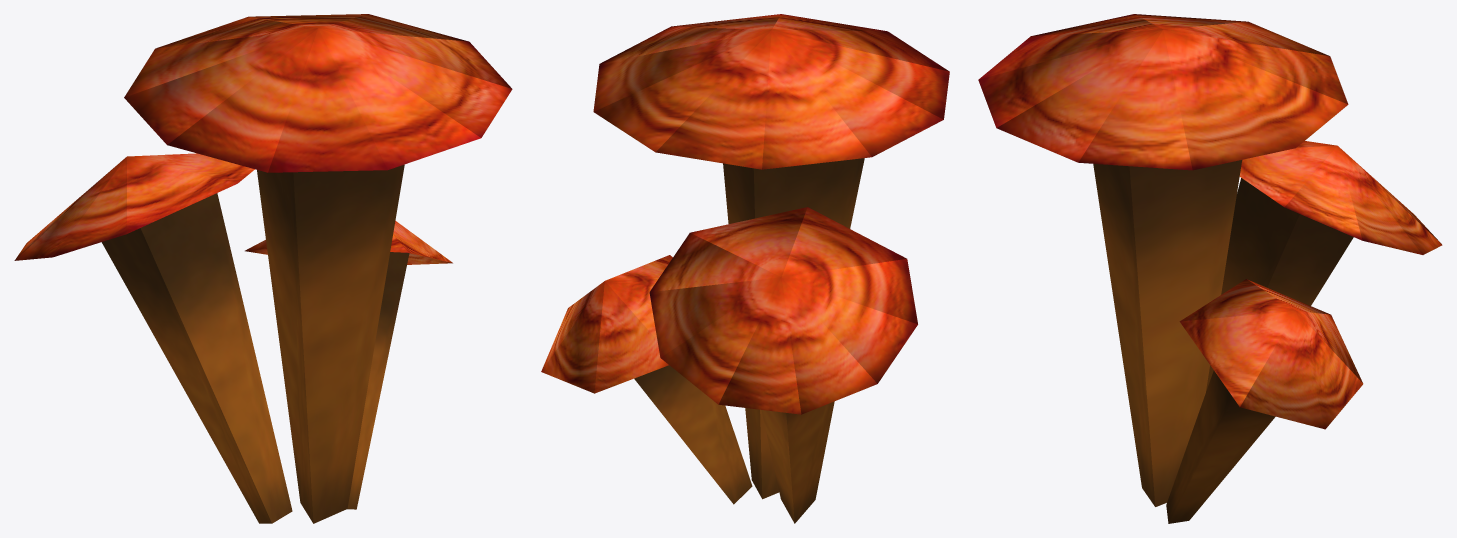
File: mush20.fbx
The picture shows the model from 3 angles, left to right: view 1: azimuth 30°, elevation 25°; view 2: azimuth 150°, elevation 25°; view 3: azimuth 270°, elevation 25°; orthographic projection. The views are drawn at different scales.
Parts seen in each view (by area): view 1: shrooms20; view 2: shrooms20; view 3: shrooms20.
Part boxes in pixels (bbox=[...]): shrooms20: bbox=[14, 14, 512, 523]; shrooms20: bbox=[541, 14, 949, 523]; shrooms20: bbox=[978, 14, 1442, 523].
Bounding box in the file's own units: 1180 × 1458 × 1280.
Materials: 1 (1 with a texture image).
